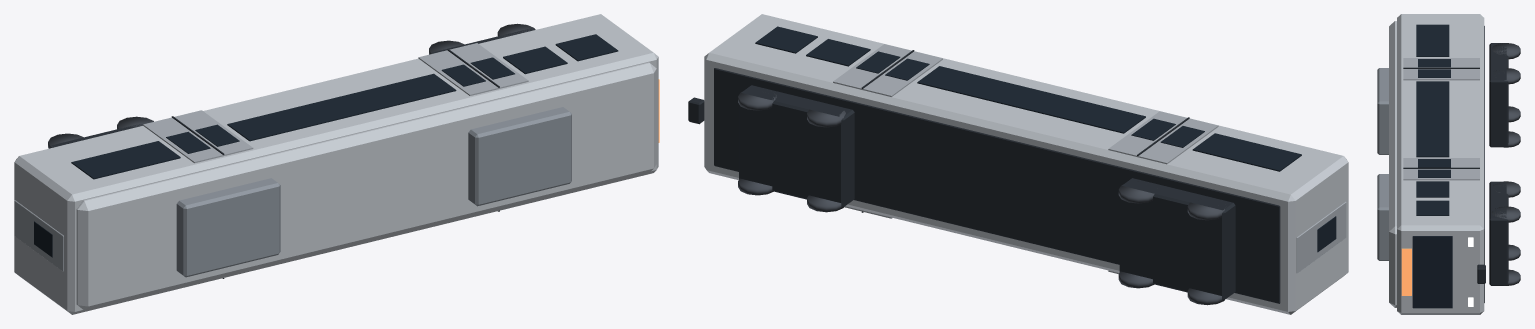
File: lcar.glb
3 views of the same model, side by side, from view 1: azimuth 30°, elevation 25°; view 2: azimuth 150°, elevation 25°; view 3: azimuth 270°, elevation 25° (orthographic). The views are drawn at different scales.
Visible parts, largest first — view 1: roof, body, hvac, hvac.001, win.004, door.002, door.003, win.003, enddoor, win.005, cabwin.001, doorwin.005 (+4 smaller); view 2: skirt, body, truck, truck.001, win.004, door.002, door.003, win.003, enddoor, win.005, cabwin.001, doorwin.005 (+8 smaller); view 3: body, windshield, win.004, roof, truck, truck.001, door.002, door.003, win.003, hvac, hvac.001, win.005 (+18 smaller).
Part boxes in pixels (x1=…): roof: x1=76, y1=62, x2=656, y2=310; body: x1=14, y1=14, x2=658, y2=314; hvac: x1=176, y1=178, x2=280, y2=277; hvac.001: x1=468, y1=107, x2=571, y2=206; win.004: x1=227, y1=73, x2=456, y2=141; door.002: x1=143, y1=110, x2=253, y2=163; door.003: x1=418, y1=43, x2=528, y2=95; win.003: x1=71, y1=141, x2=180, y2=179; enddoor: x1=14, y1=200, x2=63, y2=271; win.005: x1=503, y1=46, x2=567, y2=74; cabwin.001: x1=555, y1=34, x2=618, y2=61; doorwin.005: x1=195, y1=124, x2=239, y2=146; skirt: x1=714, y1=68, x2=1280, y2=303; body: x1=704, y1=14, x2=1348, y2=314; truck: x1=1119, y1=178, x2=1235, y2=300; truck.001: x1=739, y1=85, x2=854, y2=207; win.004: x1=917, y1=66, x2=1145, y2=133; door.002: x1=1108, y1=111, x2=1218, y2=164; door.003: x1=833, y1=44, x2=942, y2=96; win.003: x1=1192, y1=133, x2=1301, y2=171; enddoor: x1=1296, y1=201, x2=1346, y2=273; win.005: x1=806, y1=39, x2=870, y2=66; cabwin.001: x1=755, y1=26, x2=817, y2=53; doorwin.005: x1=1131, y1=118, x2=1175, y2=140; body: x1=1397, y1=14, x2=1484, y2=314; windshield: x1=1412, y1=236, x2=1452, y2=308; win.004: x1=1416, y1=81, x2=1449, y2=157; roof: x1=1389, y1=21, x2=1396, y2=307; truck: x1=1489, y1=43, x2=1508, y2=147; truck.001: x1=1489, y1=181, x2=1508, y2=285; door.002: x1=1403, y1=58, x2=1479, y2=80; door.003: x1=1403, y1=158, x2=1479, y2=180; win.003: x1=1416, y1=24, x2=1449, y2=56; hvac: x1=1377, y1=68, x2=1388, y2=154; hvac.001: x1=1377, y1=174, x2=1388, y2=260; win.005: x1=1416, y1=181, x2=1449, y2=197.
Size of the model in its own units: 14.95 by 2.95 by 4.12.
